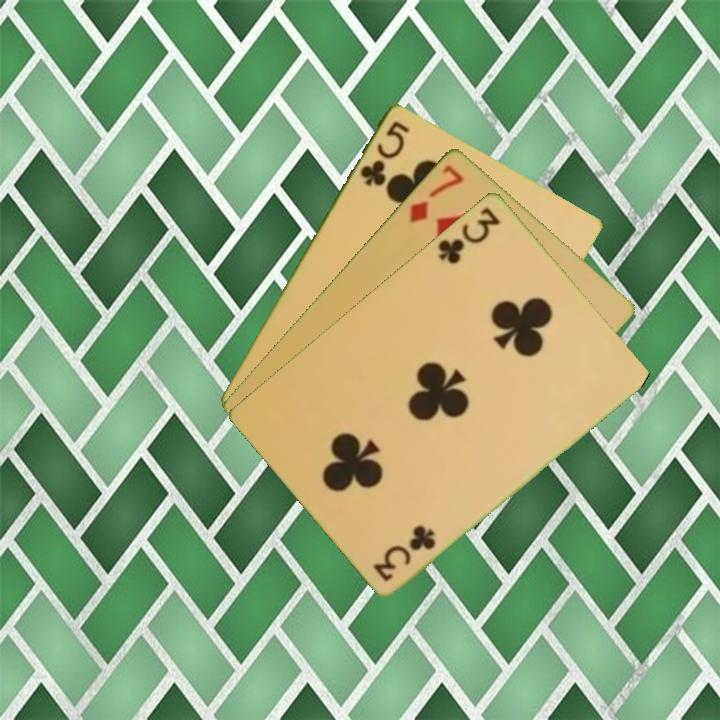3c: (434, 203, 503, 267), (370, 522, 439, 584)
5c: (356, 117, 413, 189)
7d: (405, 161, 467, 225)
